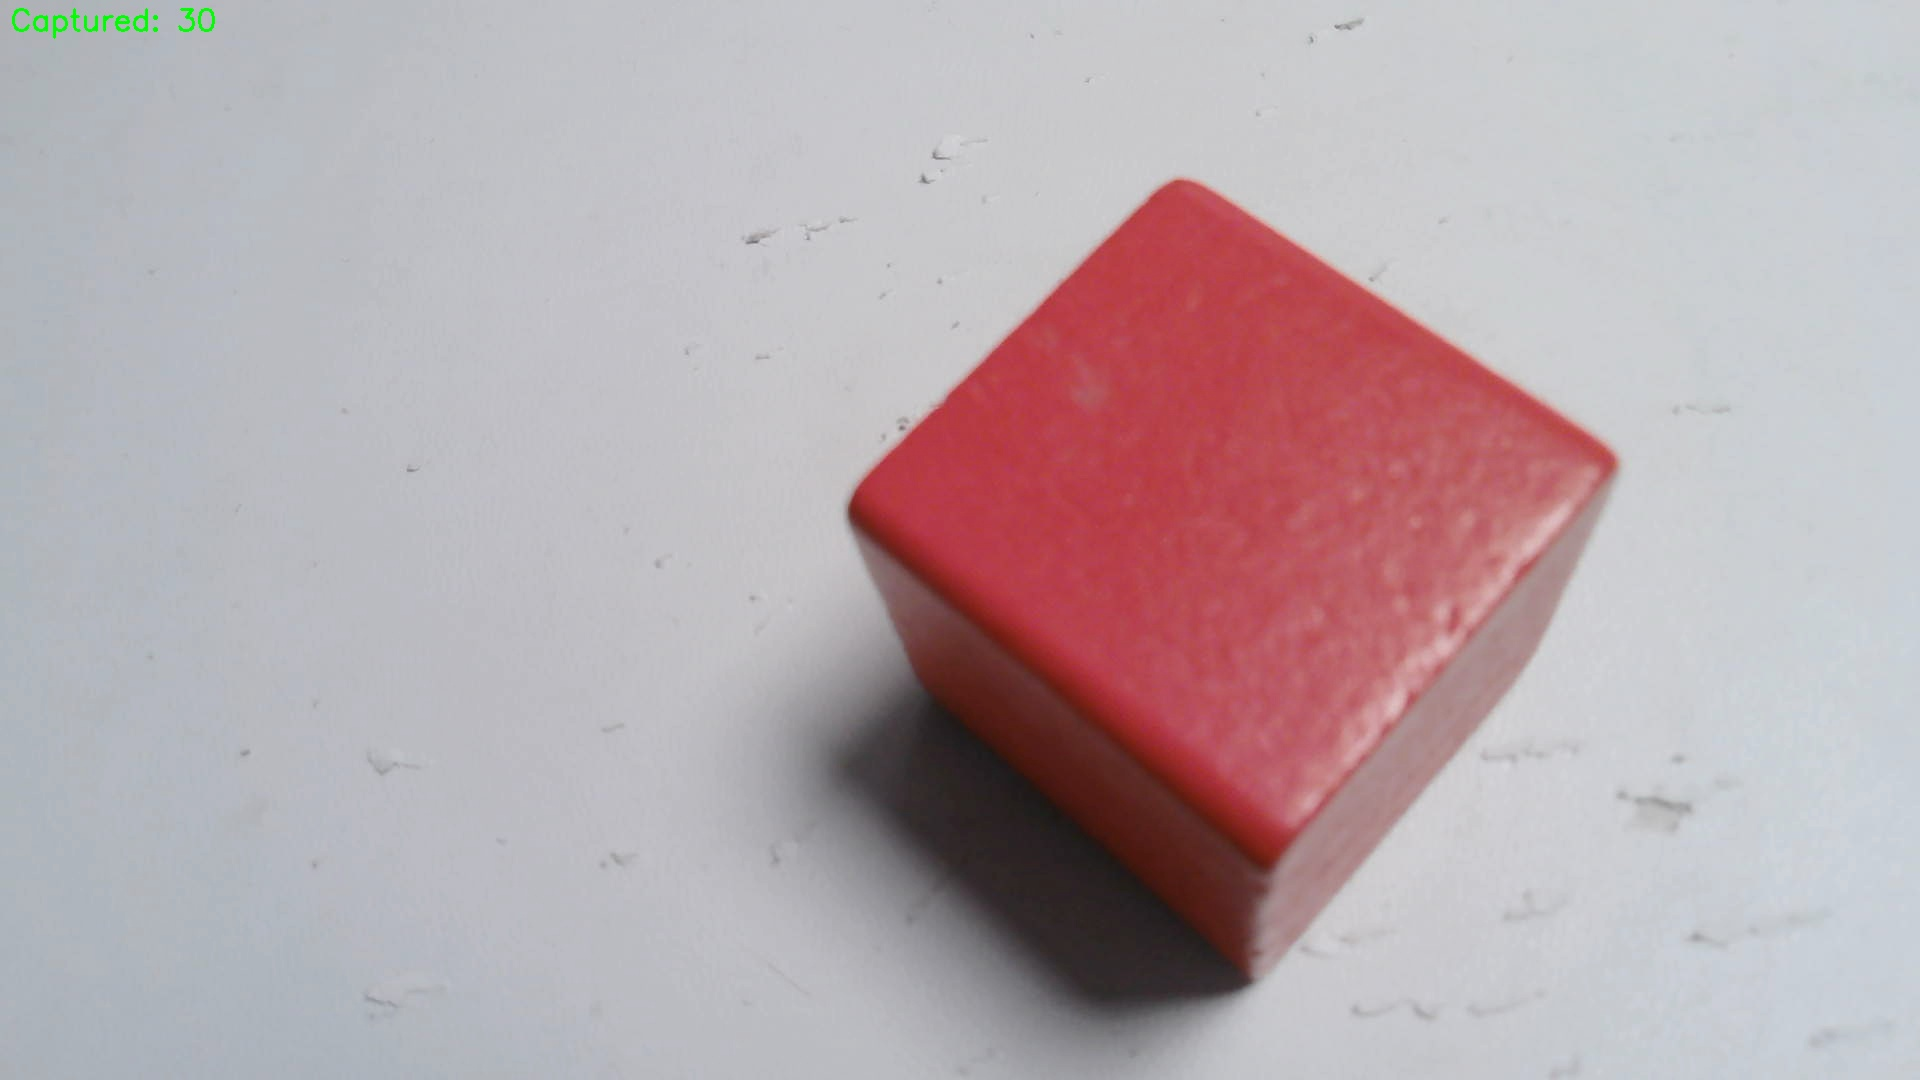red: (848, 174, 1621, 972)
